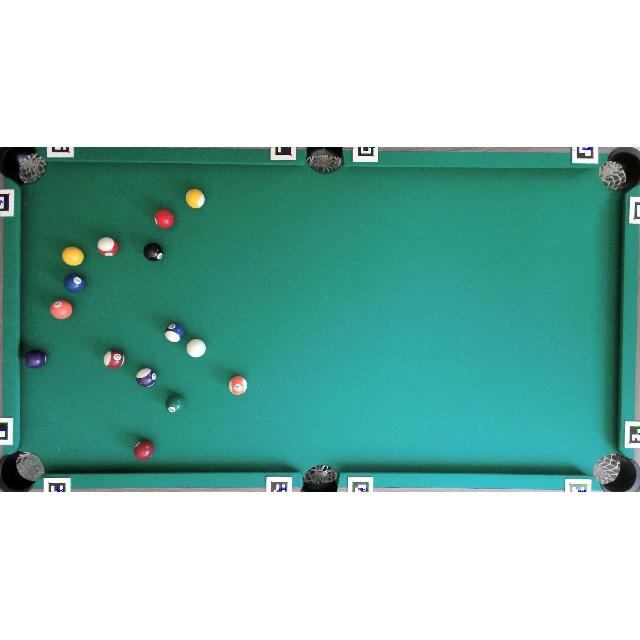cue ball: (186, 338, 206, 358)
other: (49, 299, 73, 320), (63, 272, 87, 293), (153, 208, 175, 230), (61, 246, 85, 266), (165, 394, 186, 416), (103, 349, 125, 370), (96, 236, 118, 257), (24, 349, 47, 368), (228, 375, 248, 396), (185, 188, 205, 208), (134, 440, 154, 460), (136, 368, 156, 388), (143, 242, 164, 261), (165, 322, 184, 342)
